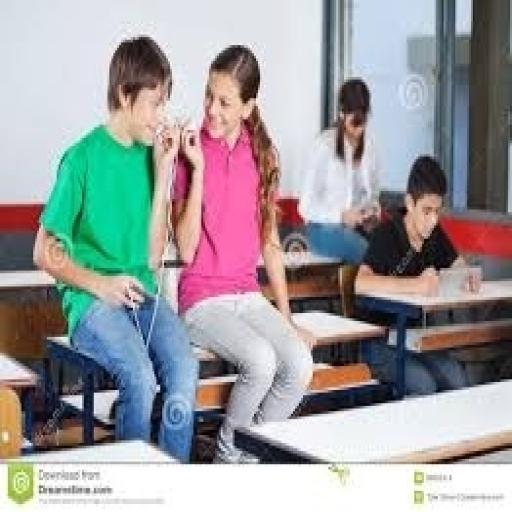listening_to_music: (32, 32, 202, 464), (166, 40, 317, 464)
